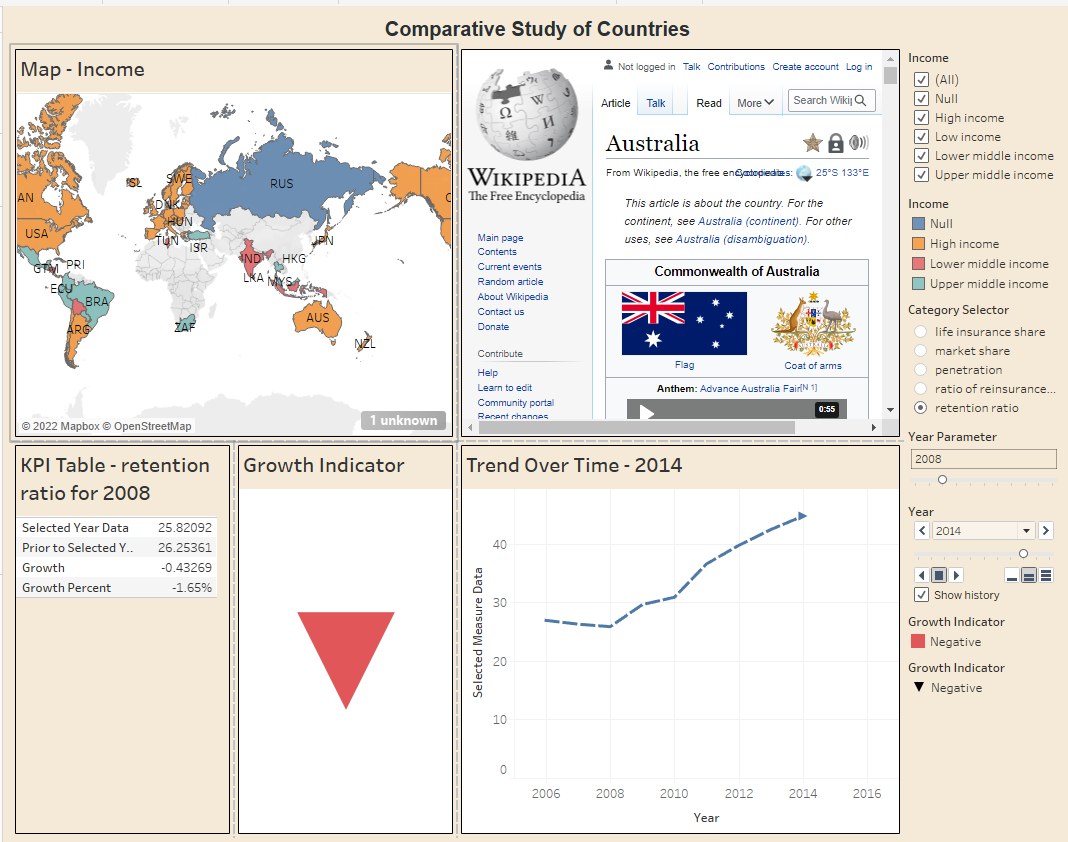

The page's visual inventory and layout, read from the dashboard file:
{"tool":"tableau","page":{"name":"Dashboard","canvas":[1000,1000],"units":"permille","ordinal":0},"visuals":[{"type":"title","box":[7.5,9.5,985,36.9]},{"type":"worksheet","title":"Map - Income","mark":"Multipolygon","box":[7.5,46.4,417.7,472]},{"type":"web page","param":"https://en.wikipedia.org/wiki/Japan","box":[425.2,46.4,417.7,472]},{"type":"filter","title":"Map - Income","param":"[federated.0nnwz9y0simj261bc7evf0x2flg0].[none:income:nk]","box":[842.9,46.4,149.7,173.8]},{"type":"legend","title":"Map - Income","param":"[federated.0nnwz9y0simj261bc7evf0x2flg0].[none:income:nk]","box":[842.9,220.2,149.7,126.2]},{"type":"parameter","param":"[Parameters].[Parameter 1]","box":[842.9,346.4,149.7,151.2]},{"type":"parameter","param":"[Parameters].[Year Parameter]","box":[842.9,497.6,149.7,89.3]},{"type":"worksheet","title":"KPI Table","mark":"Automatic","box":[7.5,518.4,208.8,472.1]},{"type":"worksheet","title":"Growth Indicator","mark":"Shape","box":[216.3,518.4,208.8,472.1]},{"type":"worksheet","title":"Trend Over Time","mark":"Shape","rows":["Calculation_2532993355663077376"],"cols":["Year"],"box":[425.1,518.4,417.7,472.1]},{"type":"currpage","title":"Trend Over Time","box":[842.9,586.9,149.7,130.9]},{"type":"legend","title":"Growth Indicator","param":"[federated.1i77jl404n5xk21h7bp341lkau2b].[usr:Calculation_2532993355673137158:nk","box":[842.9,717.8,149.7,54.8]},{"type":"legend","title":"Growth Indicator","param":"[federated.1i77jl404n5xk21h7bp341lkau2b].[usr:Calculation_2532993355673137158:nk","box":[842.9,772.6,149.7,54.8]}]}

Visuals, with their boxes on the dashboard's canvas, which has no fixed pixel size, in thousandths of its width and height (x1, y1, x2, y2). These are canvas units, not pixel positions in the 1068x842 screenshot, which may show the page scaled, cropped or inside an application window:
title: [8,10,992,46]
"Map - Income" worksheet (Multipolygon marks): [8,46,425,518]
web page: [425,46,843,518]
"Map - Income" filter: [843,46,993,220]
"Map - Income" legend: [843,220,993,346]
parameter: [843,346,993,498]
parameter: [843,498,993,587]
"KPI Table" worksheet: [8,518,216,990]
"Growth Indicator" worksheet (Shape marks): [216,518,425,990]
"Trend Over Time" worksheet (Shape marks): [425,518,843,990]
"Trend Over Time" currpage: [843,587,993,718]
"Growth Indicator" legend: [843,718,993,773]
"Growth Indicator" legend: [843,773,993,827]
